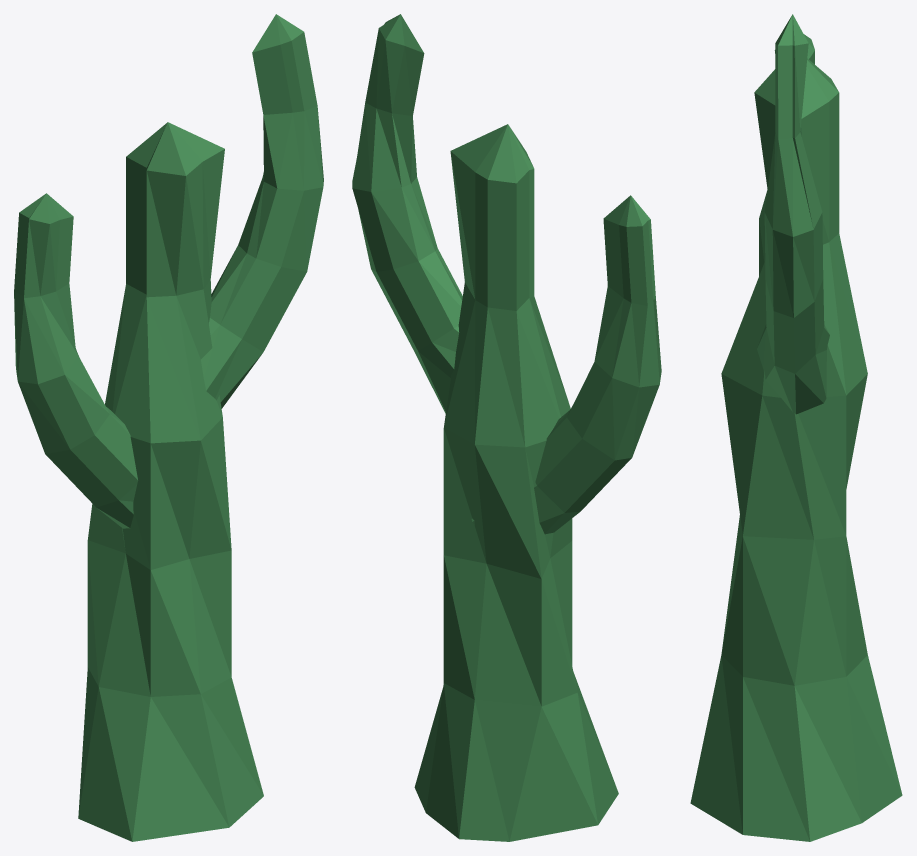
The model's file is Kaktus2.fbx.
3 views of the same model, side by side, from view 1: azimuth 30°, elevation 25°; view 2: azimuth 150°, elevation 25°; view 3: azimuth 270°, elevation 25° (orthographic). The views are drawn at different scales.
Visible parts, largest first — view 1: pCylinder1, pasted__pCylinder1, pasted__pasted__pCylinder1; view 2: pCylinder1, pasted__pCylinder1, pasted__pasted__pCylinder1; view 3: pCylinder1, pasted__pCylinder1, pasted__pasted__pCylinder1.
Boxes of the visible parts, left/top/right/bottom form: pCylinder1: left=78, top=122, right=263, bottom=841; pasted__pCylinder1: left=201, top=14, right=323, bottom=408; pasted__pasted__pCylinder1: left=14, top=193, right=137, bottom=528; pCylinder1: left=414, top=124, right=618, bottom=841; pasted__pCylinder1: left=352, top=14, right=462, bottom=413; pasted__pasted__pCylinder1: left=471, top=195, right=661, bottom=534; pCylinder1: left=690, top=58, right=902, bottom=841; pasted__pCylinder1: left=757, top=14, right=829, bottom=414; pasted__pasted__pCylinder1: left=759, top=34, right=814, bottom=275.
Size of the model in its own units: 5.35 by 12.65 by 2.9.
